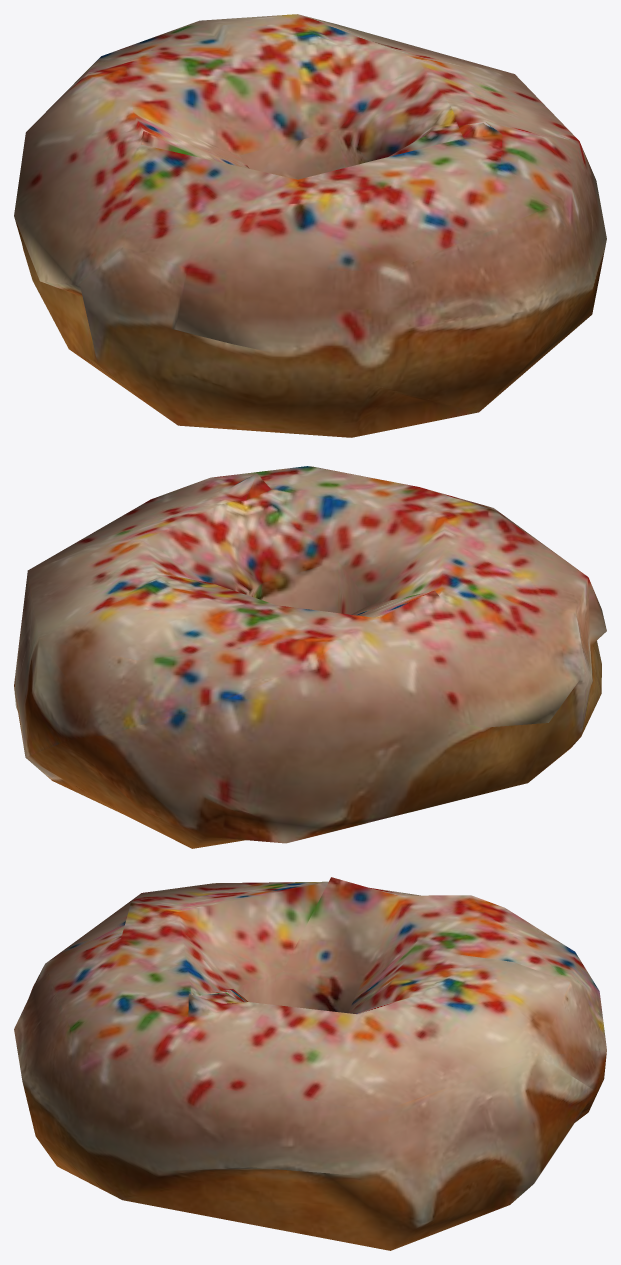
The model's file is donut_vcbjfbu_low.glb.
3 views of the same model, one above another, from view 1: azimuth 30°, elevation 25°; view 2: azimuth 150°, elevation 25°; view 3: azimuth 270°, elevation 25° (orthographic). The views are drawn at different scales.
Visible parts, largest first — view 1: vcbjfbu_LOD0_TIER3_000; view 2: vcbjfbu_LOD0_TIER3_000; view 3: vcbjfbu_LOD0_TIER3_000.
Boxes of the visible parts, <box> form: vcbjfbu_LOD0_TIER3_000: <box>14,14,606,437</box>; vcbjfbu_LOD0_TIER3_000: <box>14,466,606,848</box>; vcbjfbu_LOD0_TIER3_000: <box>14,877,606,1250</box>.
Bounding box in the file's own units: 0.0793 × 0.0332 × 0.0837.
Materials: 1 (1 with a texture image).
